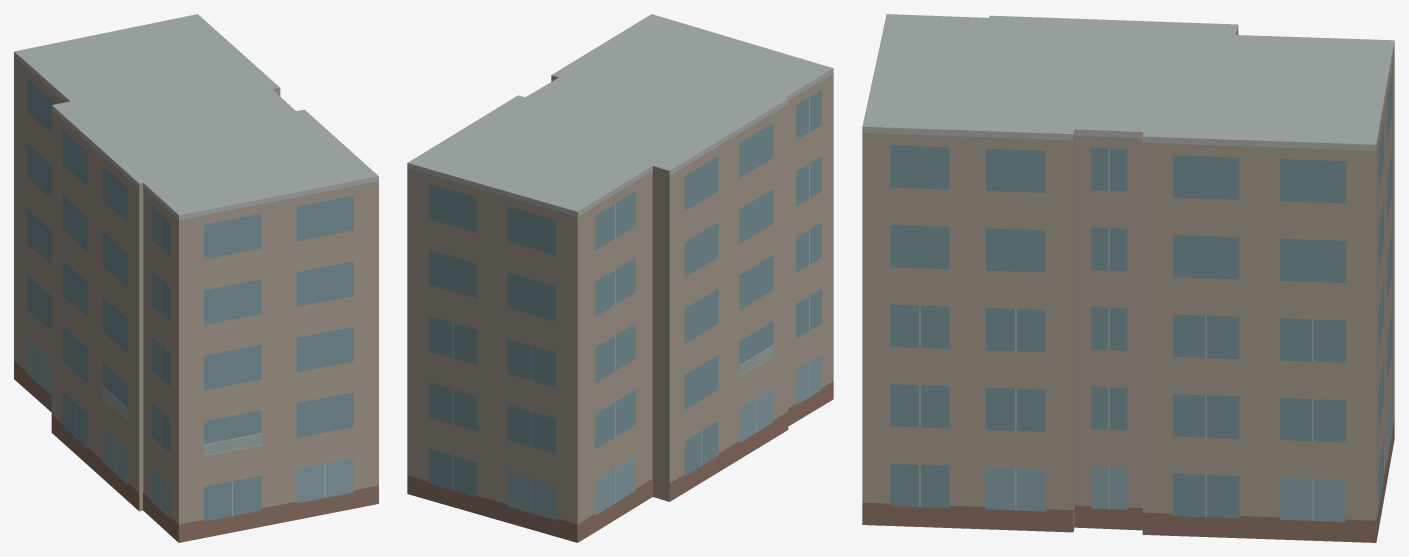
The model's file is survey-upis-32764968.glb.
3 views of the same model, side by side, from view 1: azimuth 30°, elevation 25°; view 2: azimuth 150°, elevation 25°; view 3: azimuth 270°, elevation 25° (orthographic). The views are drawn at different scales.
Visible parts, largest first — view 1: survey-upis-32764968.tmp; view 2: survey-upis-32764968.tmp; view 3: survey-upis-32764968.tmp.
Boxes of the visible parts, box(x1,y1,x2,y2) form: survey-upis-32764968.tmp: box(14, 14, 378, 542); survey-upis-32764968.tmp: box(407, 14, 833, 542); survey-upis-32764968.tmp: box(862, 14, 1394, 542).
Bounding box in the file's own units: 11.13 × 15.8 × 19.15.
